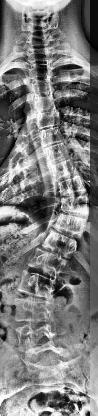Vertebrae: (7, 272, 63, 298), (6, 299, 64, 323), (9, 326, 61, 348), (24, 250, 66, 272), (48, 214, 90, 234), (34, 145, 78, 163), (21, 94, 62, 113), (41, 234, 79, 254), (50, 196, 92, 214), (19, 78, 61, 96), (18, 62, 60, 80), (17, 46, 59, 64), (49, 178, 91, 194), (42, 162, 82, 178), (33, 128, 69, 144), (28, 113, 66, 127)
